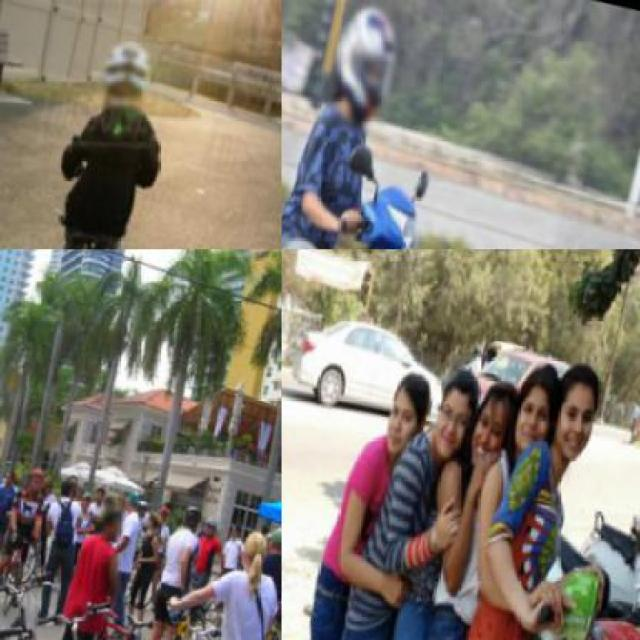With Helmet: (307, 0, 418, 148), (83, 38, 160, 127), (12, 466, 43, 505)
Without Helmet: (527, 351, 613, 477), (83, 502, 125, 548)
